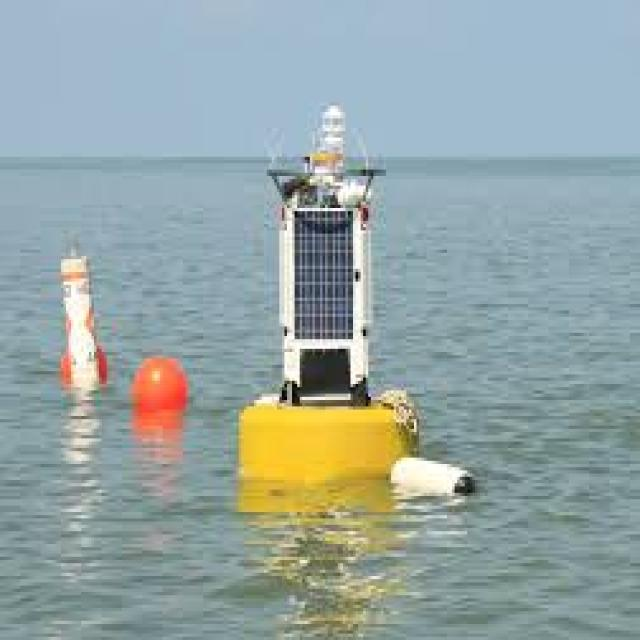2.5 sepcial mark: (239, 94, 433, 518)
Buoy: (42, 229, 108, 396), (129, 355, 188, 427)
